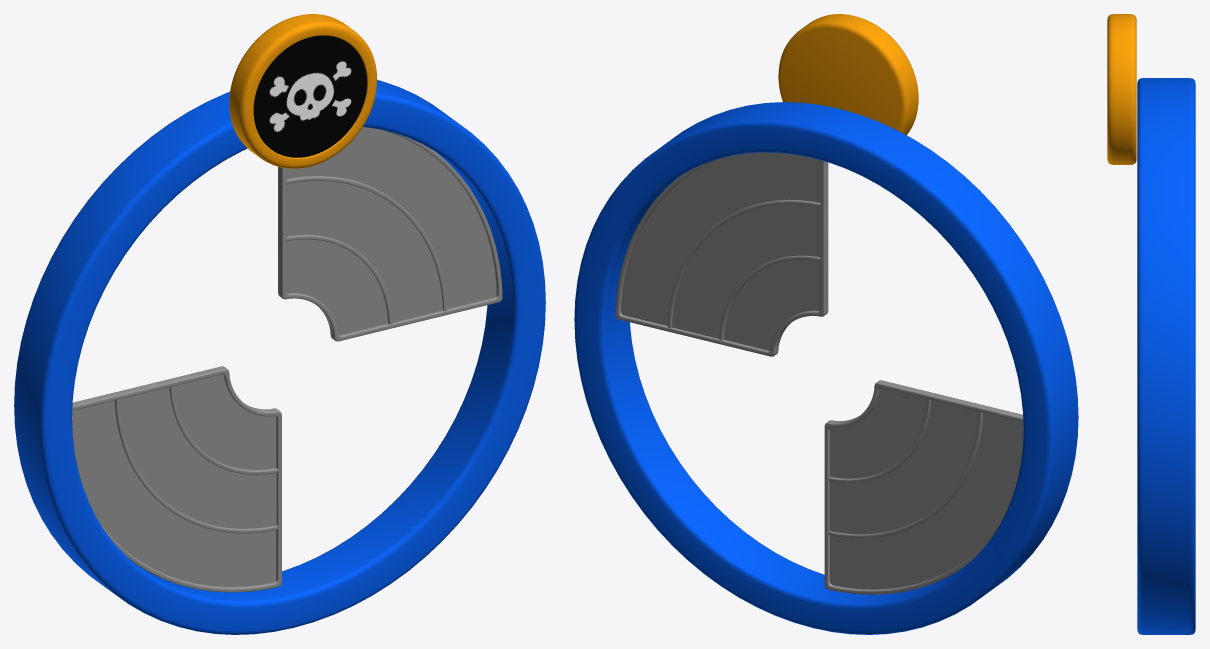
File: Barrier_2.FBX
3 views of the same model, side by side, from view 1: azimuth 30°, elevation 25°; view 2: azimuth 150°, elevation 25°; view 3: azimuth 270°, elevation 25° (orthographic). The views are drawn at different scales.
Parts seen in each view (by area): view 1: Barrier_2, Barrier_Shock, Barrier_Sign; view 2: Barrier_2, Barrier_Shock, Barrier_Sign; view 3: Barrier_2, Barrier_Sign.
Part boxes in pixels (x1,y1,x2,y2): Barrier_2: (14, 80, 545, 634); Barrier_Shock: (72, 127, 502, 592); Barrier_Sign: (229, 14, 377, 168); Barrier_2: (574, 102, 1078, 634); Barrier_Shock: (615, 152, 1023, 594); Barrier_Sign: (778, 14, 918, 135); Barrier_2: (1137, 78, 1195, 634); Barrier_Sign: (1107, 14, 1136, 164).
Bounding box in the file's own units: 5356 × 6236 × 847.
